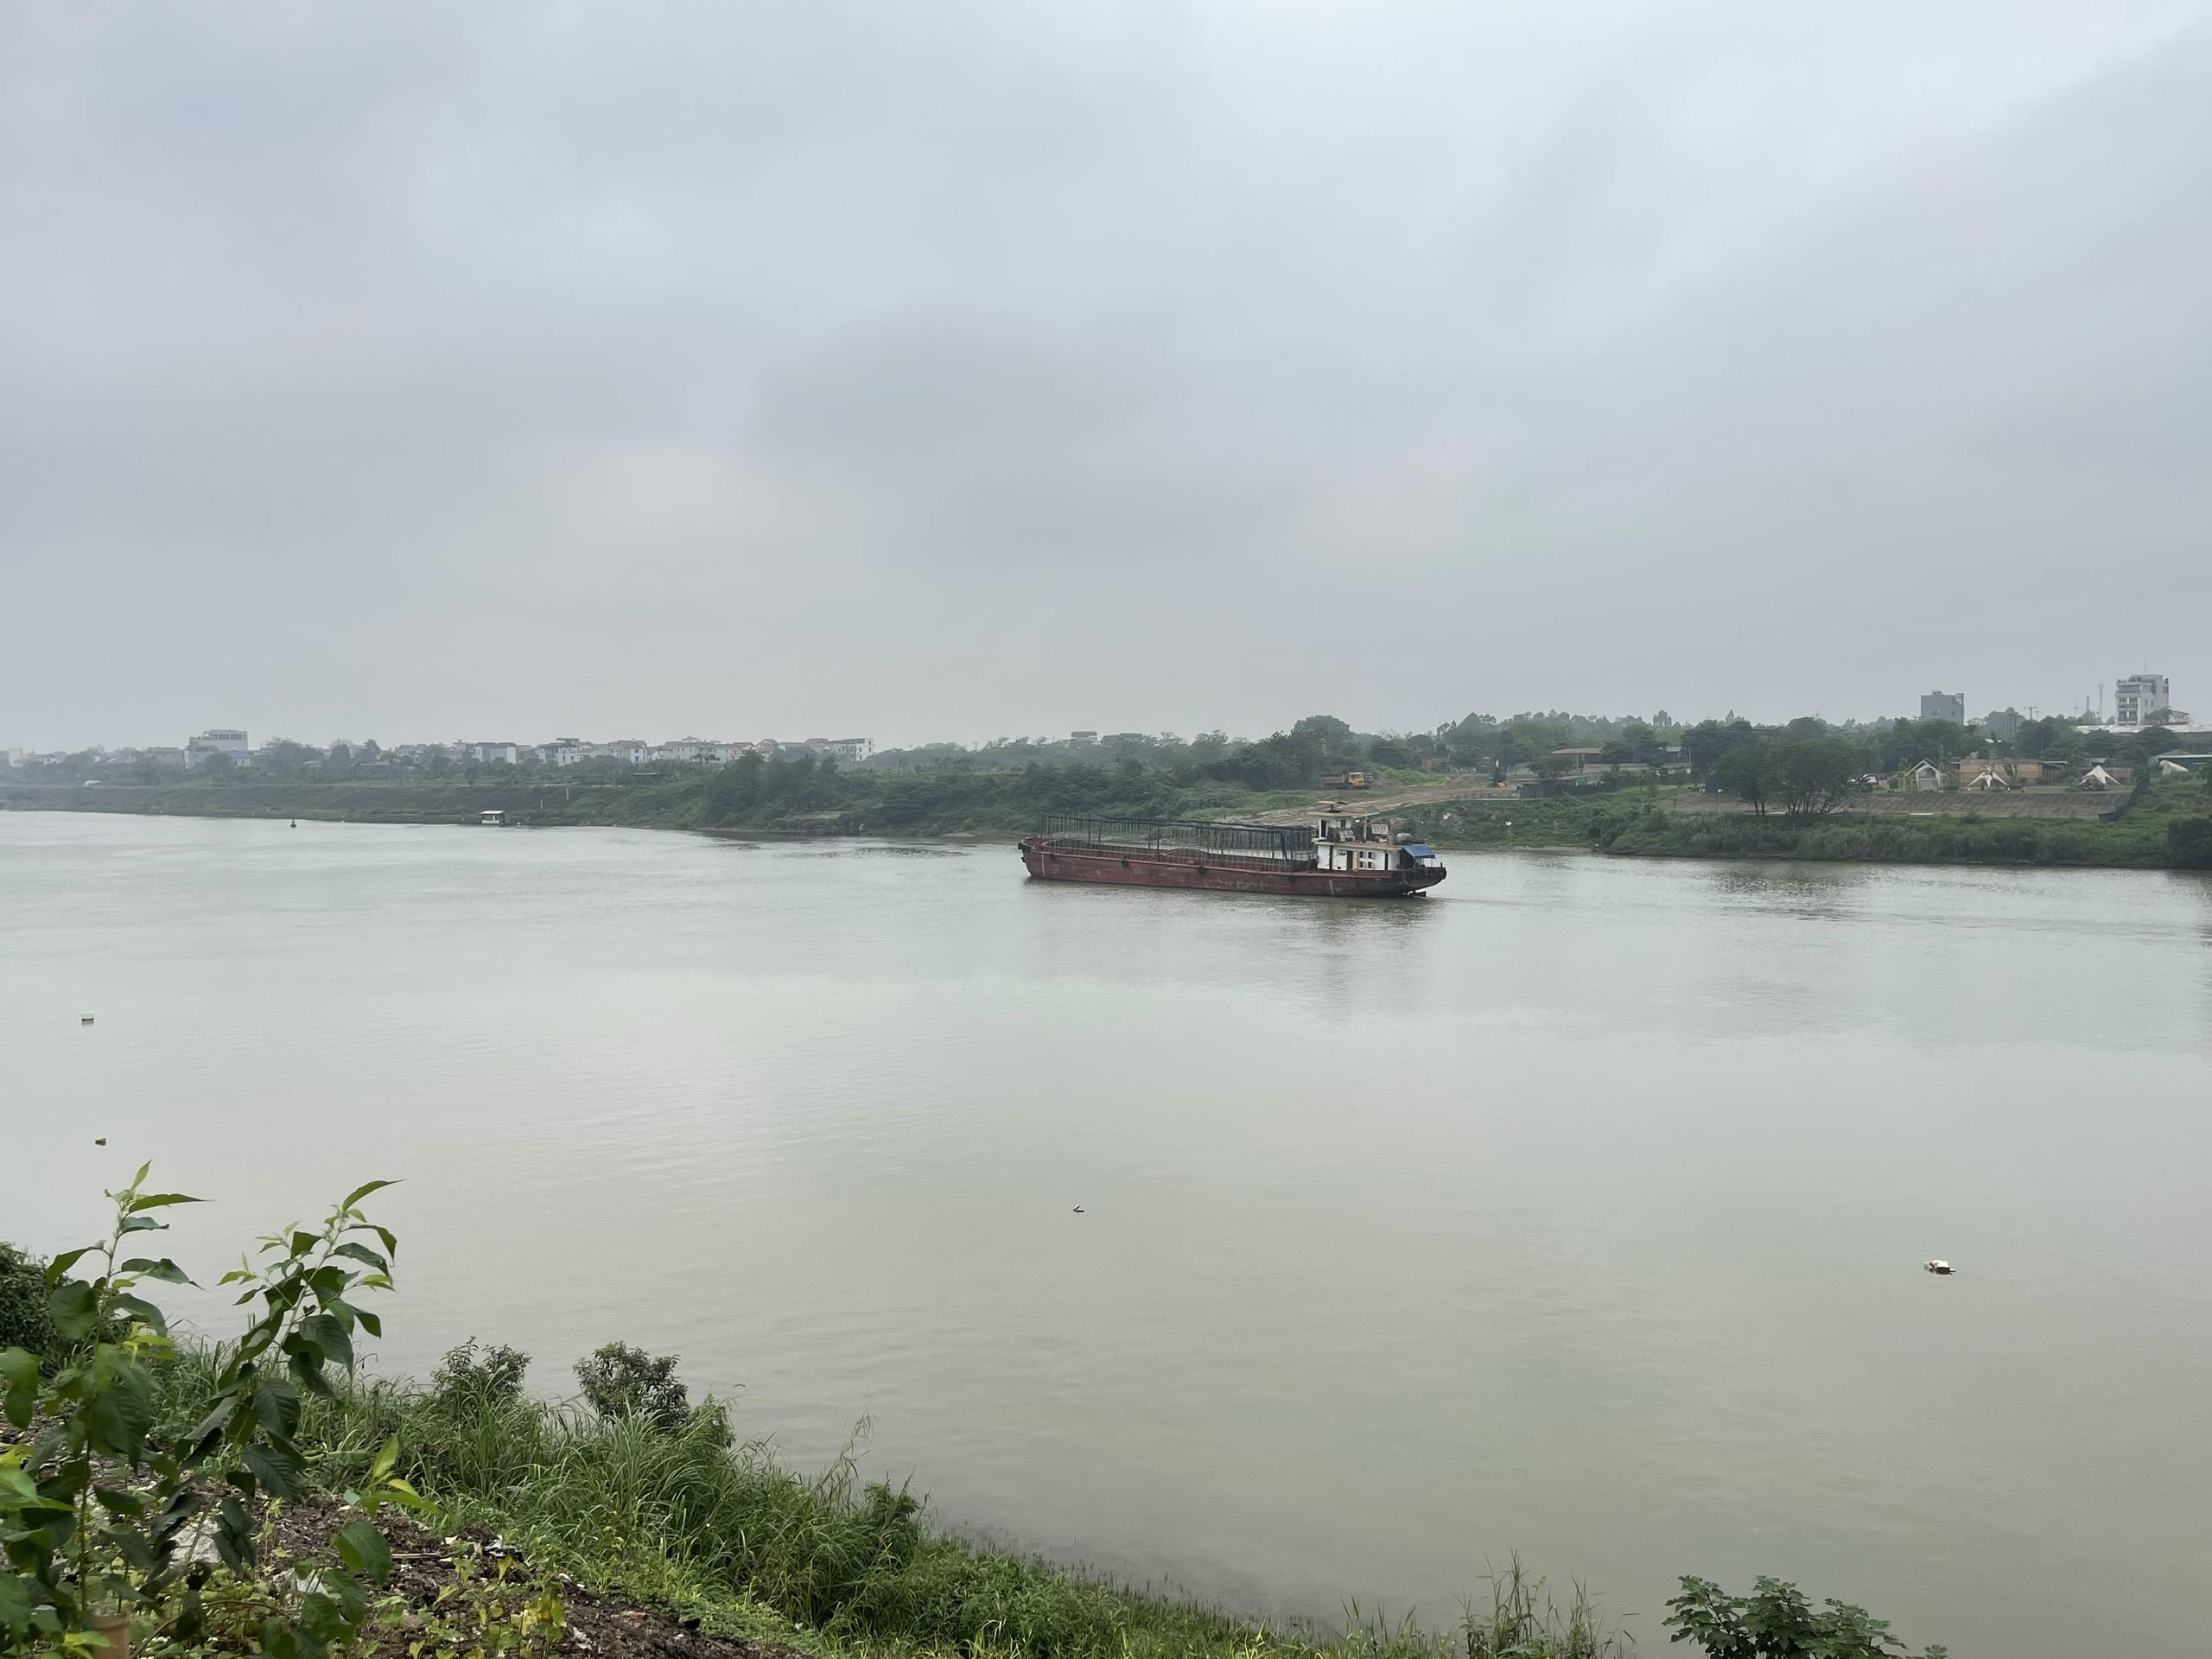Ship: (1001, 821, 1467, 904)
